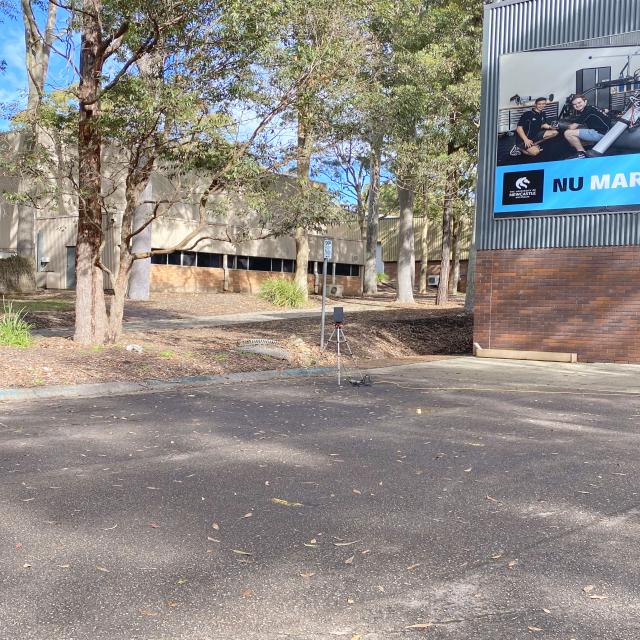matrix: (331, 306, 348, 323)
